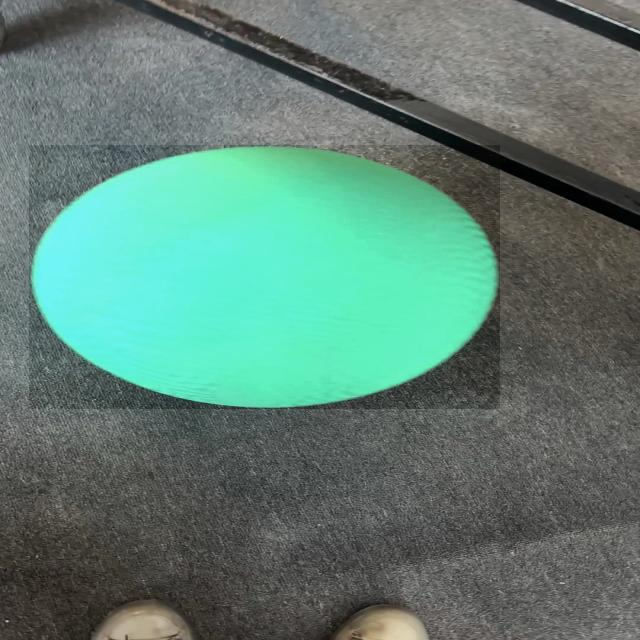Algae: (29, 145, 500, 409)
